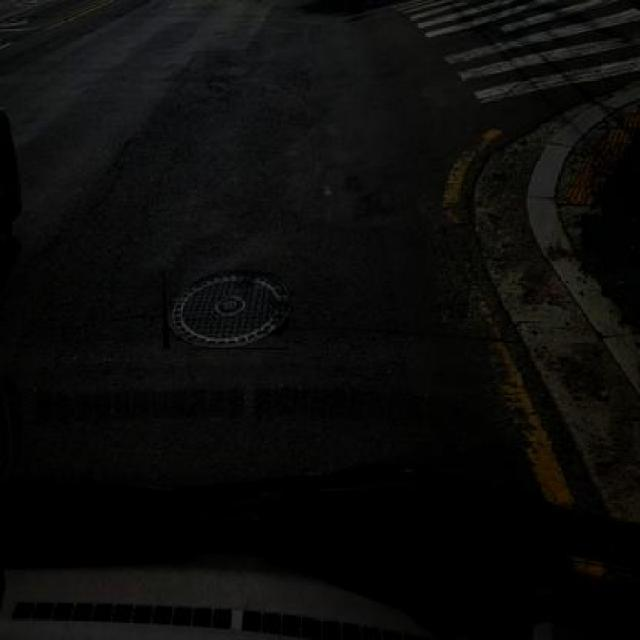Manhole: (163, 269, 289, 349)
